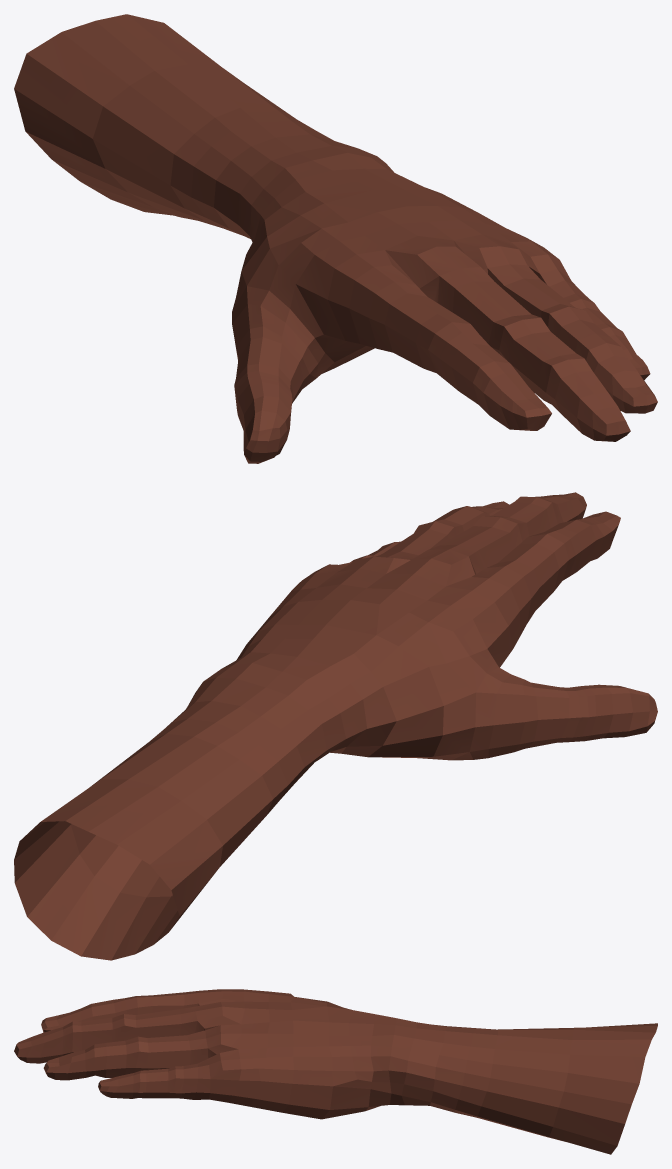
File: 1_6_HandPolygonalLeftBack.obj
The picture shows the model from 3 angles, top to bottom: view 1: azimuth 30°, elevation 25°; view 2: azimuth 150°, elevation 25°; view 3: azimuth 270°, elevation 25°; orthographic projection. The views are drawn at different scales.
Parts seen in each view (by area): view 1: hand_femme_polySurface1.005; view 2: hand_femme_polySurface1.005; view 3: hand_femme_polySurface1.005.
Boxes of the visible parts, x1,y1,x2,y2 form: hand_femme_polySurface1.005: [14, 14, 657, 463]; hand_femme_polySurface1.005: [14, 492, 657, 960]; hand_femme_polySurface1.005: [14, 989, 657, 1154].
Size of the model in its own units: 0.0733 by 0.042 by 0.1908.
